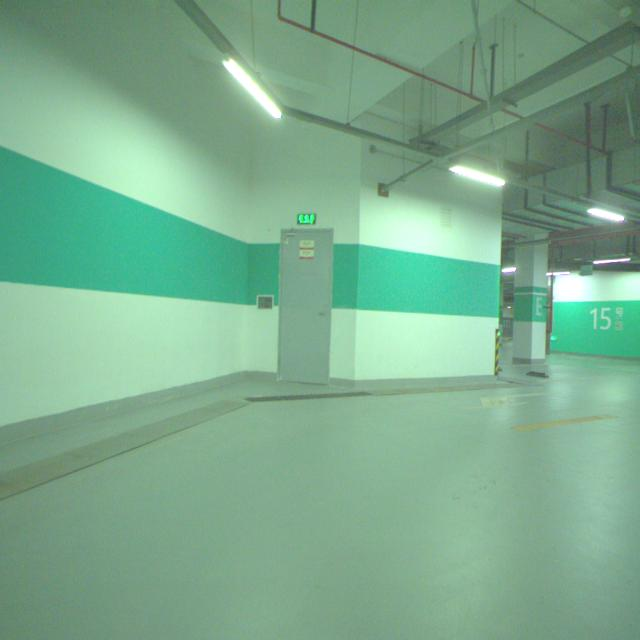pillar: (512, 244, 547, 363)
